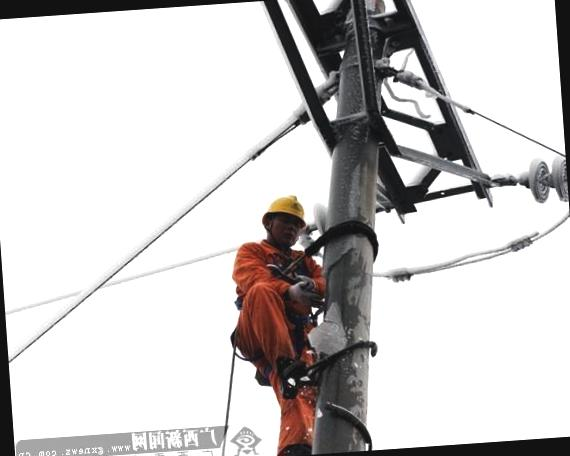helmet: (260, 196, 309, 226)
no_vest: (228, 244, 324, 336)
person: (219, 189, 342, 456)
